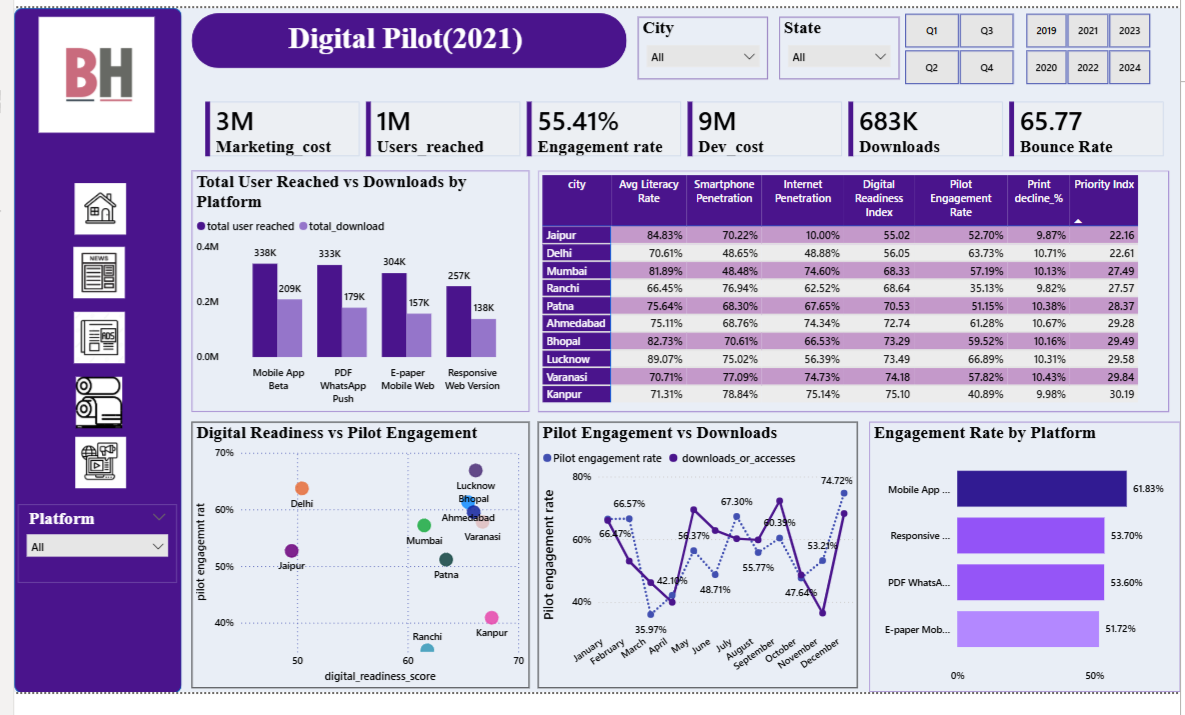

This screenshot's page, from the dashboard's own definition file:
{"tool":"powerbi","page":{"name":"Digital Pilot  ","canvas":[1450,850],"ordinal":4},"visuals":[{"type":"shape","box":[220.7,6.2,541,68.4],"z":0},{"type":"cardVisual","fields":{"Data":["Sum(fact_digital_pilot.marketing_cost)","Sum(fact_digital_pilot.users_reached)","fact_digital_pilot.pilot engagemnt rat","Sum(fact_digital_pilot.dev_cost)","Sum(fact_digital_pilot.downloads_or_accesses)","fact_digital_pilot.boun rat"]},"box":[220.7,99.5,1229.6,102.6],"z":1000},{"type":"shape","box":[0,0,208.3,851.8],"z":2000},{"type":"textbox","box":[233.2,10.9,516.1,63.7],"z":3000},{"type":"clusteredColumnChart","title":"Total User Reached vs Downloads by Platform ","fields":{"Category":["fact_digital_pilot.platform"],"Y":["fact_digital_pilot.total user reached","fact_digital_pilot.total_download"]},"box":[220.7,202.1,419.7,300],"z":4000},{"type":"barChart","fields":{"Category":["fact_digital_pilot.platform"],"Y":["fact_digital_pilot.pilot engagemnt rat"]},"box":[1063.3,514.5,387.1,335.8],"z":5000},{"type":"lineChart","title":"Pilot Engagement vs Downloads ","fields":{"Y":["fact_digital_pilot.pilot engagemnt rat"],"Y2":["Sum(fact_digital_pilot.downloads_or_accesses)"],"Category":["dim_date.Date.Variation.Date Hierarchy.Month"]},"box":[651.3,514.5,397.9,331.1],"z":7000},{"type":"scatterChart","title":"Digital Readiness vs  Pilot Engagement","fields":{"Category":["dim_city.city"],"Y":["fact_digital_pilot.pilot engagemnt rat"],"X":["fact_city_readiness.digital_readiness_score"]},"box":[220.7,514.5,419.7,331.1],"z":8000},{"type":"slicer","fields":{"Values":["dim_date.year"]},"box":[1232.7,0,203.6,101],"z":9000},{"type":"slicer","fields":{"Values":["dim_date.quarter"]},"box":[1081.9,0,185,101],"z":10000},{"type":"slicer","title":"City","fields":{"Values":["dim_city.city"]},"box":[775.7,10.9,161.7,77.7],"z":11000},{"type":"slicer","title":"State ","fields":{"Values":["dim_city.state"]},"box":[951.3,10.9,149.2,77.7],"z":12000},{"type":"slicer","fields":{"Values":["fact_digital_pilot.platform"]},"box":[4.7,617.1,197.4,97.9],"z":13000},{"type":"pivotTable","fields":{"Rows":["dim_city.city"],"Values":["fact_city_readiness.avg literay rat","fact_city_readiness.avg smartphon pntration","fact_city_readiness.avg internet pentration","fact_city_readiness.avg digital readiness index","fact_digital_pilot.pilot engagemnt rat","fact_print_sales.waste_%","Avg(fact_digital_pilot.priority indx)"]},"box":[651.3,202.1,785,300],"z":14000},{"type":"image","box":[57.5,217.6,99.5,63.7],"z":14001},{"type":"image","box":[56,296.9,99.5,63.7],"z":14002},{"type":"image","box":[56,377.7,100,63.7],"z":14003},{"type":"image","box":[56,458.6,99.5,63.7],"z":14004},{"type":"image","box":[57.5,533.2,100,63.7],"z":14005},{"type":"image","box":[0,10.9,205,144],"z":14006}]}

Visuals, with their boxes in screenshot pixels (x1, y1, x2, y2), scaled from the page's 1450x850 canvas onto the 1185x715 screenshot:
shape: {"left": 180, "top": 5, "right": 622, "bottom": 63}
cardVisual - Sum(fact_digital_pilot.marketing_cost) x Sum(fact_digital_pilot.users_reached): {"left": 180, "top": 84, "right": 1184, "bottom": 170}
shape: {"left": 0, "top": 0, "right": 170, "bottom": 714}
textbox: {"left": 191, "top": 9, "right": 612, "bottom": 63}
"Total User Reached vs Downloads by Platform " clusteredColumnChart: {"left": 180, "top": 170, "right": 523, "bottom": 422}
barChart - fact_digital_pilot.platform x fact_digital_pilot.pilot engagemnt rat: {"left": 869, "top": 433, "right": 1184, "bottom": 714}
"Pilot Engagement vs Downloads " lineChart: {"left": 532, "top": 433, "right": 857, "bottom": 711}
"Digital Readiness vs  Pilot Engagement" scatterChart: {"left": 180, "top": 433, "right": 523, "bottom": 711}
slicer - dim_date.year: {"left": 1007, "top": 0, "right": 1174, "bottom": 85}
slicer - dim_date.quarter: {"left": 884, "top": 0, "right": 1035, "bottom": 85}
"City" slicer: {"left": 634, "top": 9, "right": 766, "bottom": 75}
"State " slicer: {"left": 777, "top": 9, "right": 899, "bottom": 75}
slicer - fact_digital_pilot.platform: {"left": 4, "top": 519, "right": 165, "bottom": 601}
pivotTable - dim_city.city x fact_city_readiness.avg literay rat: {"left": 532, "top": 170, "right": 1174, "bottom": 422}
image: {"left": 47, "top": 183, "right": 128, "bottom": 237}
image: {"left": 46, "top": 250, "right": 127, "bottom": 303}
image: {"left": 46, "top": 318, "right": 127, "bottom": 371}
image: {"left": 46, "top": 386, "right": 127, "bottom": 439}
image: {"left": 47, "top": 449, "right": 129, "bottom": 502}
image: {"left": 0, "top": 9, "right": 168, "bottom": 130}
